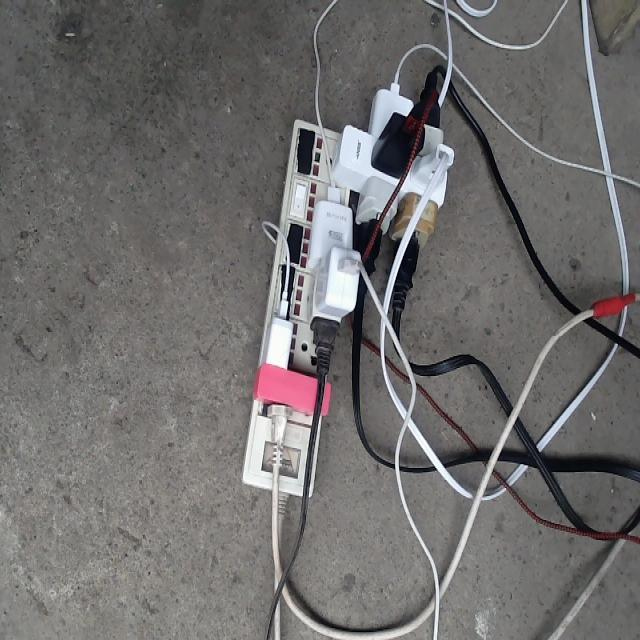-: (239, 68, 453, 499)
